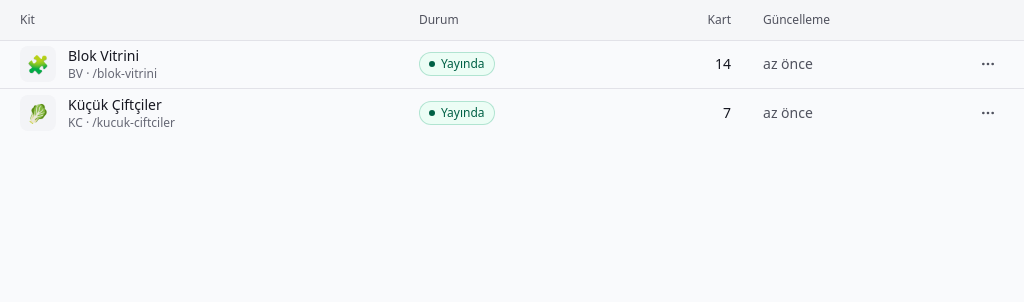
it: KitsTable › offers archive and delete to admins only
This screenshot has width=1024, height=302.
Click the button named "Blok Vitrini için işlemler".
click(988, 64)  # box [972, 48, 1004, 80]
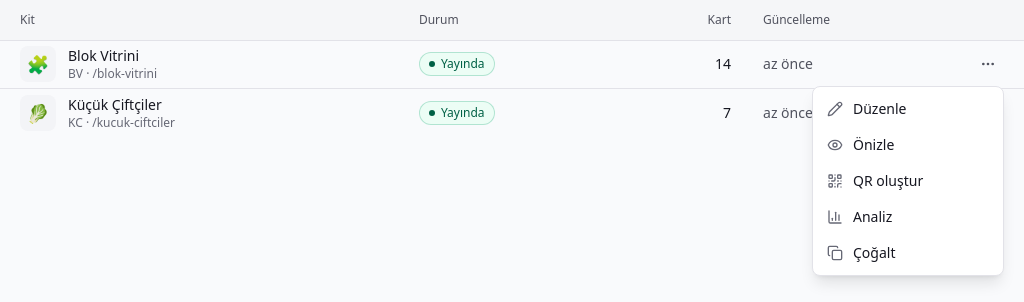
Check: the menu items read "Düzenle", "Önizle", "QR oluştur", "Analiz", "Çoğalt", in this order, box [827, 99, 906, 118]; [827, 135, 894, 154]; [827, 171, 923, 190]; [827, 207, 892, 226]; [827, 243, 896, 262]
